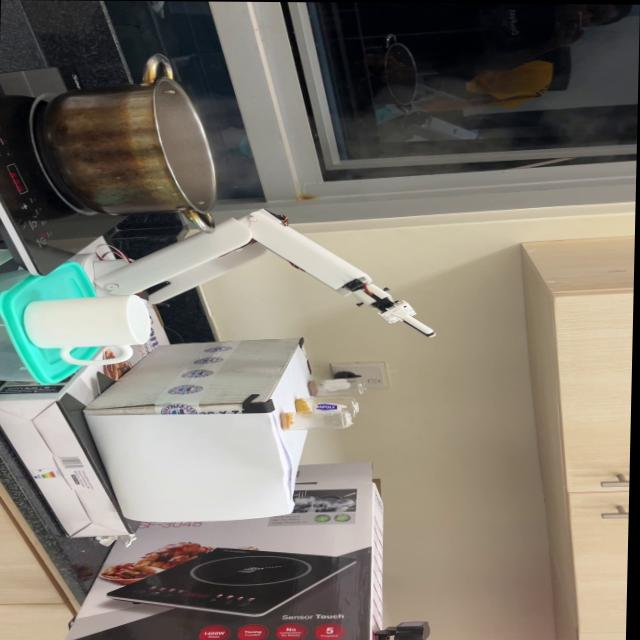cooking_pot: (40, 53, 226, 231)
curry_powder: (294, 398, 311, 415)
garlic_powder: (280, 413, 296, 431)
maggie_open: (307, 379, 323, 396)
